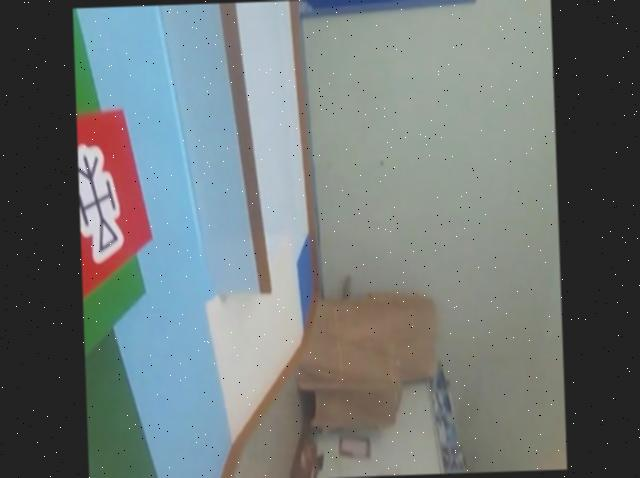R2 Real: (77, 109, 159, 310)
